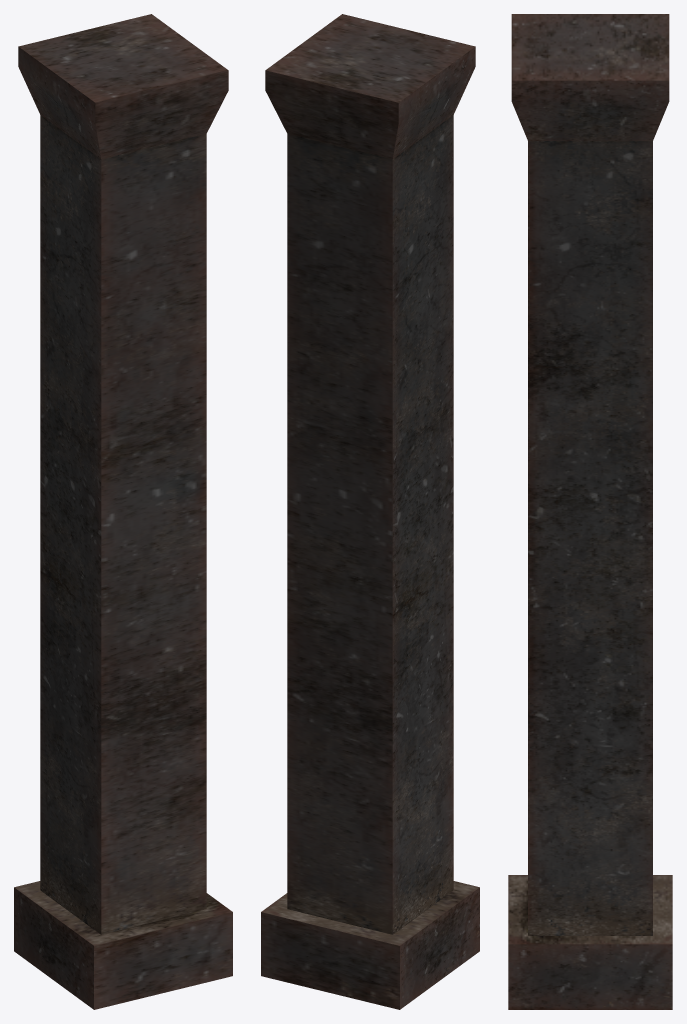
File: pillar.fbx
3 renders of one model, left to right at view 1: azimuth 30°, elevation 25°; view 2: azimuth 150°, elevation 25°; view 3: azimuth 270°, elevation 25°, orthographic. The views are drawn at different scales.
Parts seen in each view (by area): view 1: pillar; view 2: pillar; view 3: pillar.
Part boxes in pixels (bbox=[...]): pillar: bbox=[14, 14, 232, 1009]; pillar: bbox=[261, 14, 479, 1009]; pillar: bbox=[508, 14, 672, 1009].
Bounding box in the file's own units: 50 × 312 × 50.
1 material, 1 textured.
